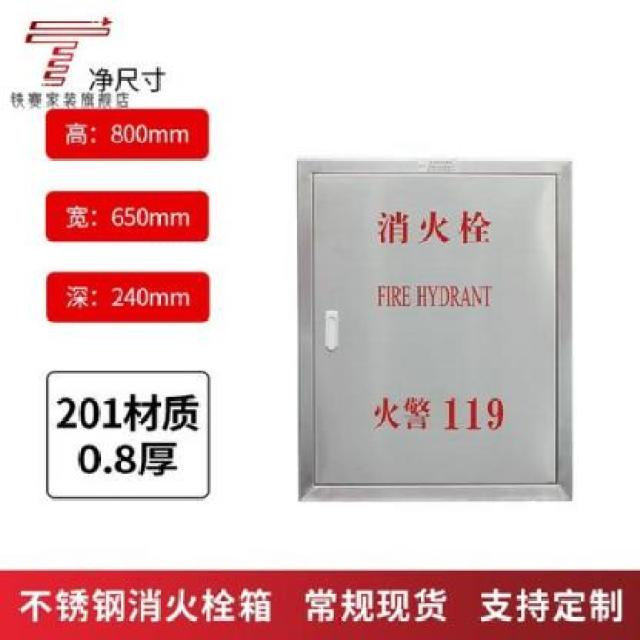firehydrant: (294, 154, 577, 505)
